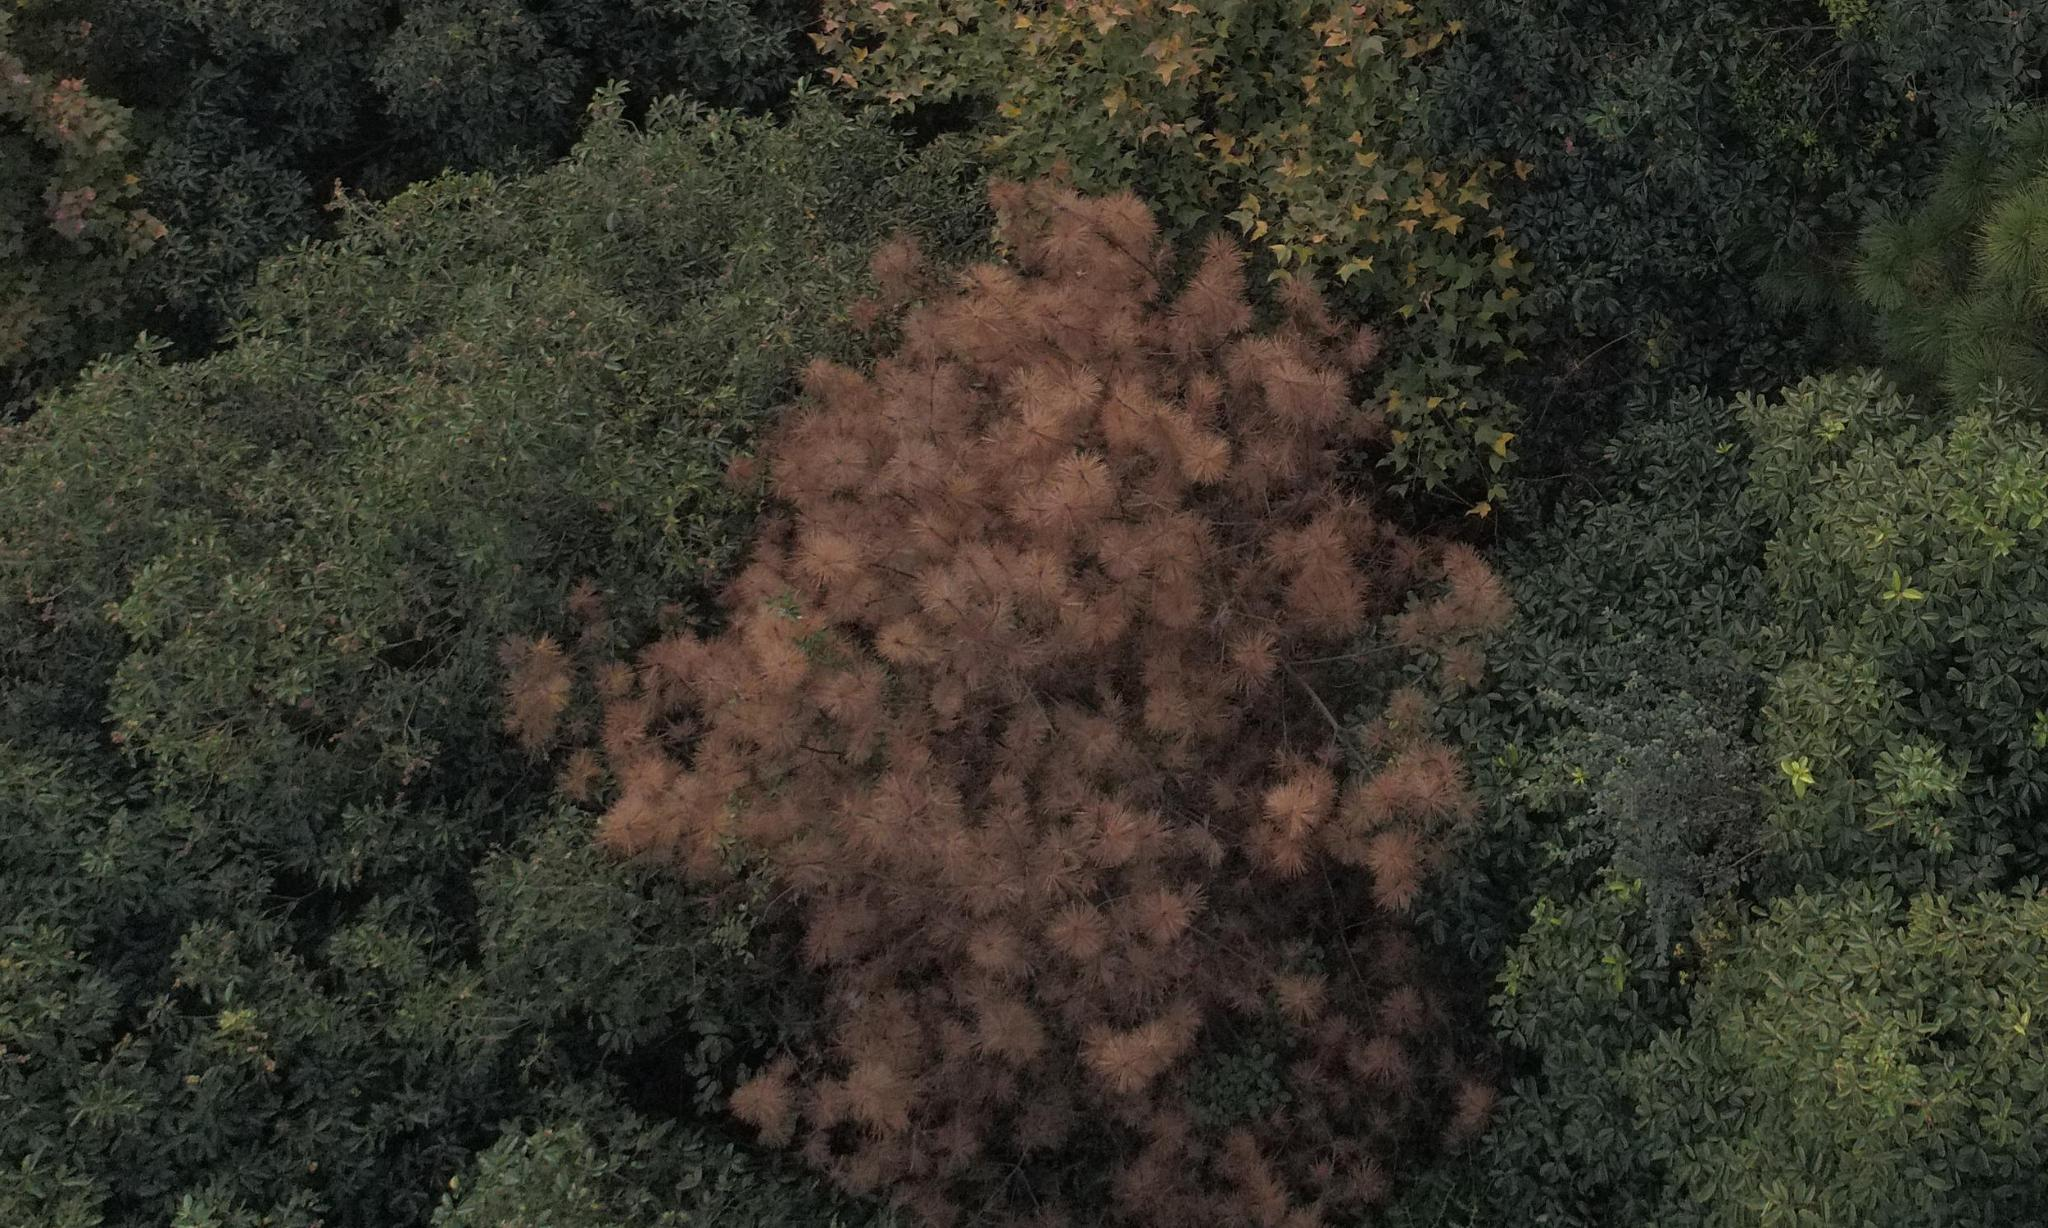heavy: (501, 149, 1466, 1197)
